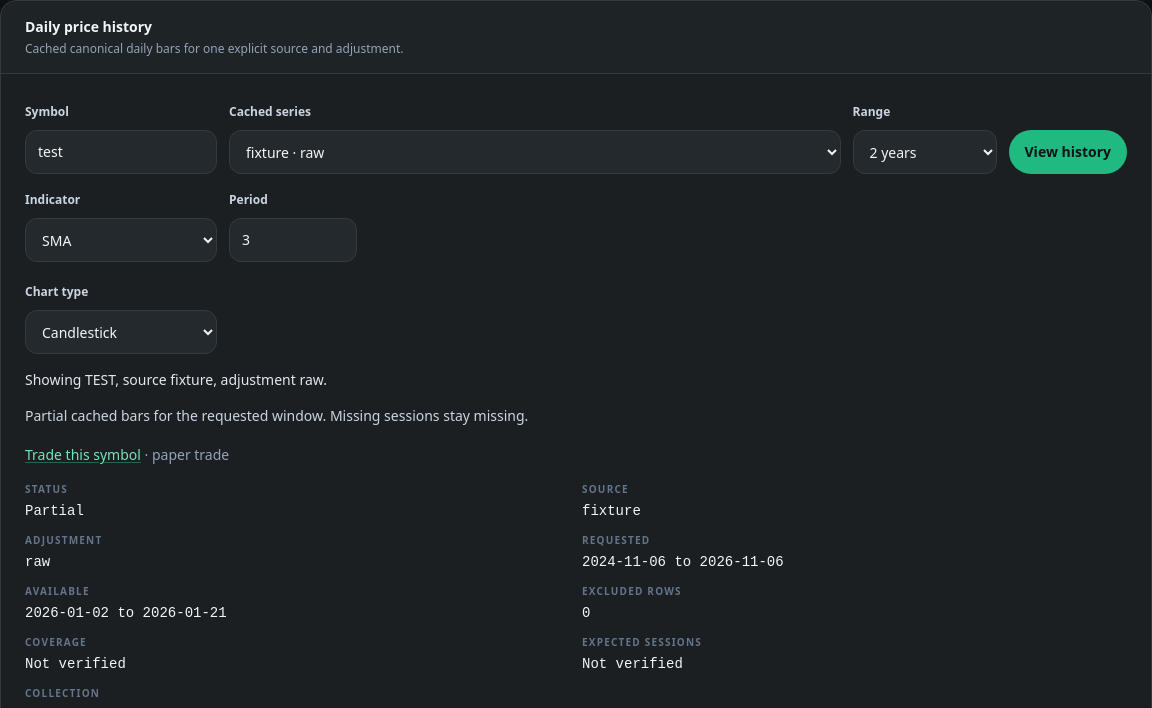
Test case: DailyIndicators › clears the inactive series when SMA and MACD swap on the same chart
Earlier steps of the test are not shown.
Later steps or results of the test are not shown.
Select "MACD" in the dropdown labelled "Indicator" at (121, 240), box x1=25 y1=218 x2=217 y2=262
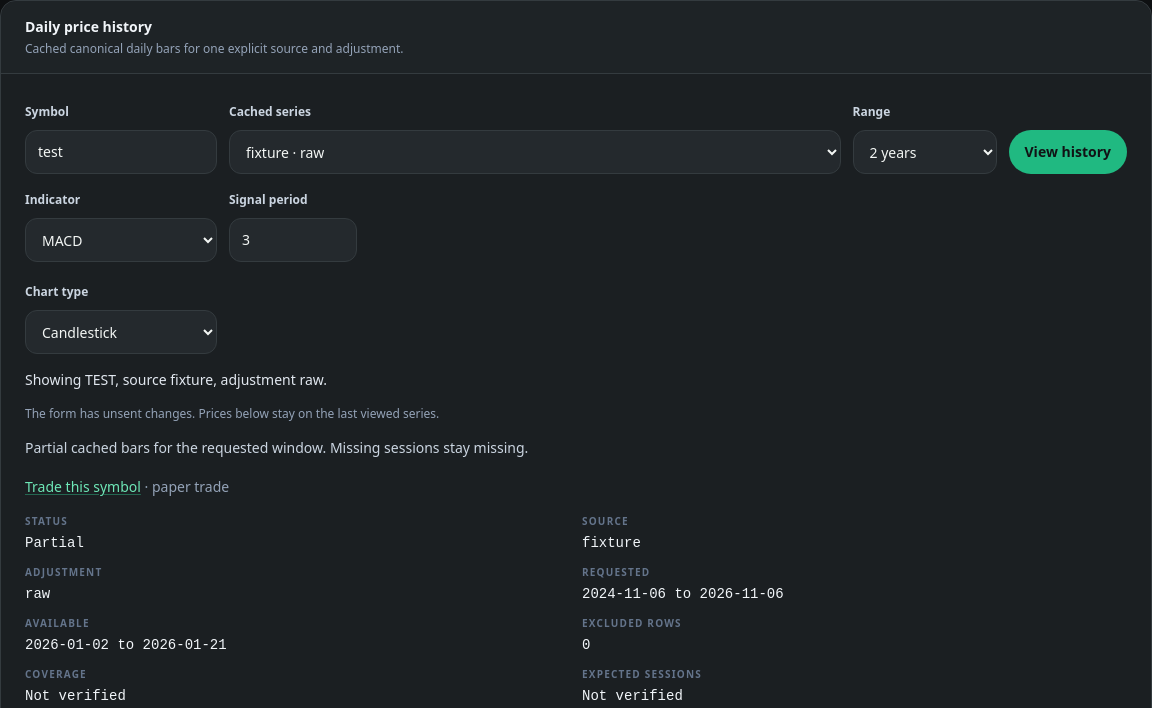
Replace the text in the number field labelled "Signal period" with "9" at (293, 240), box x1=229 y1=218 x2=357 y2=262
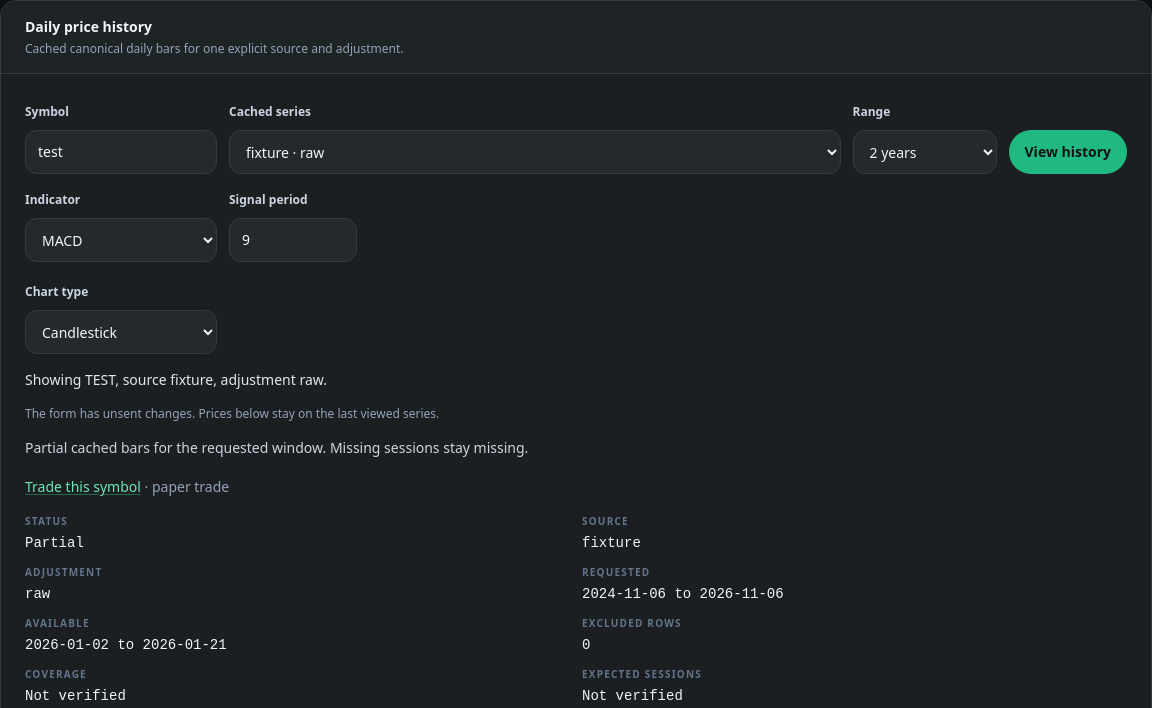
Submit the form "View history", box x1=25 y1=98 x2=1127 y2=262
(page scrolled)
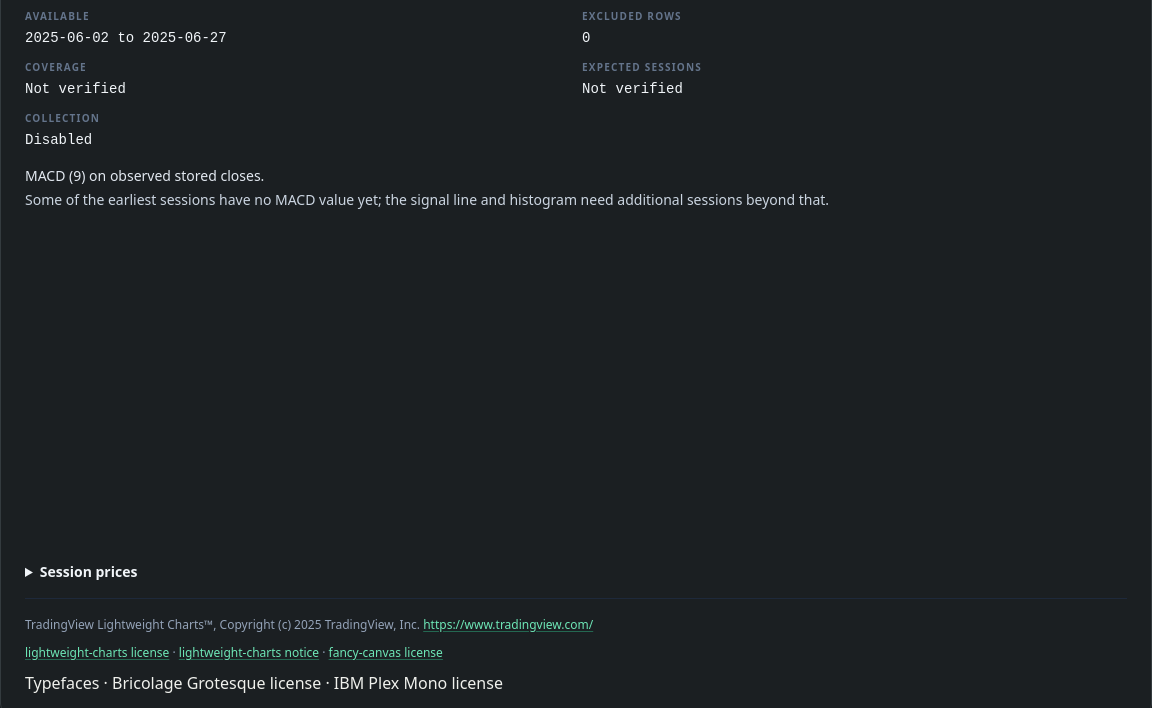
Click the heading "Session prices" at (89, 572), box x1=40 y1=562 x2=137 y2=581
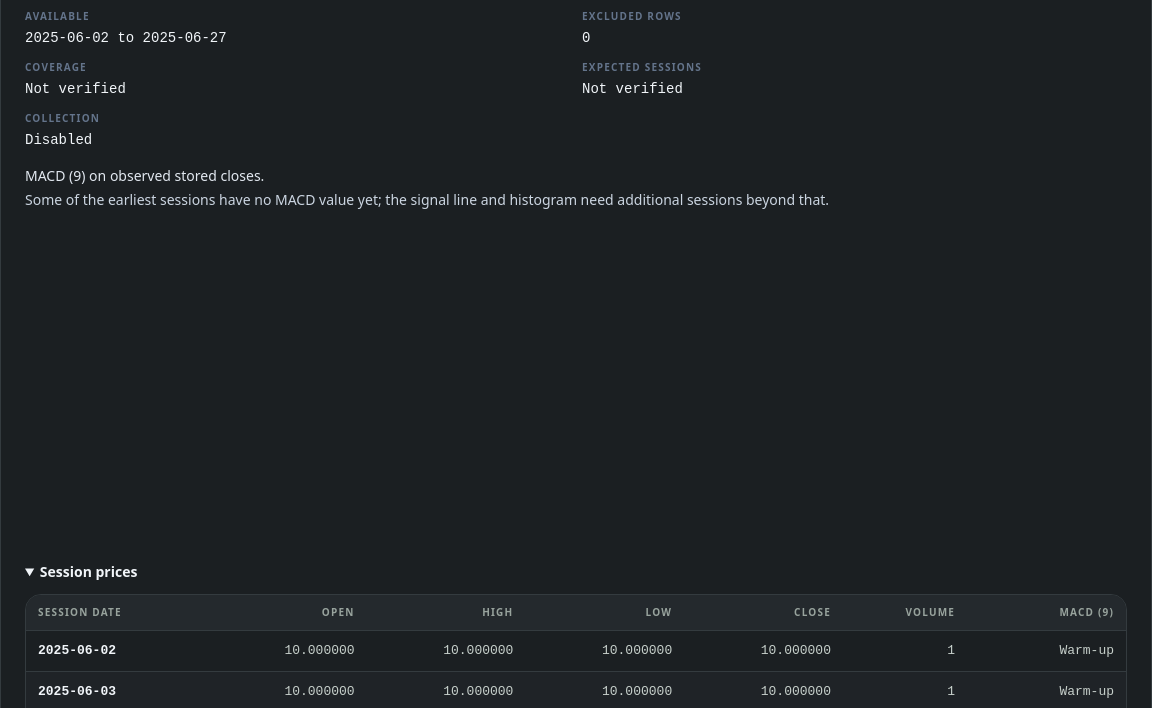
Expected: the column heading "MACD (9)" is shown, x1=967 y1=595 x2=1126 y2=630
